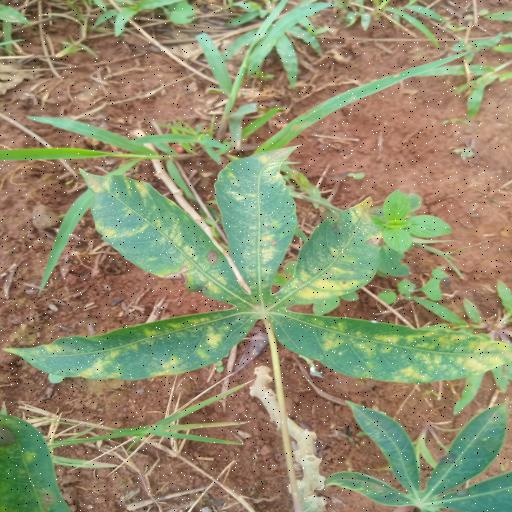Cassava_Mosaic: (5, 145, 512, 388)
